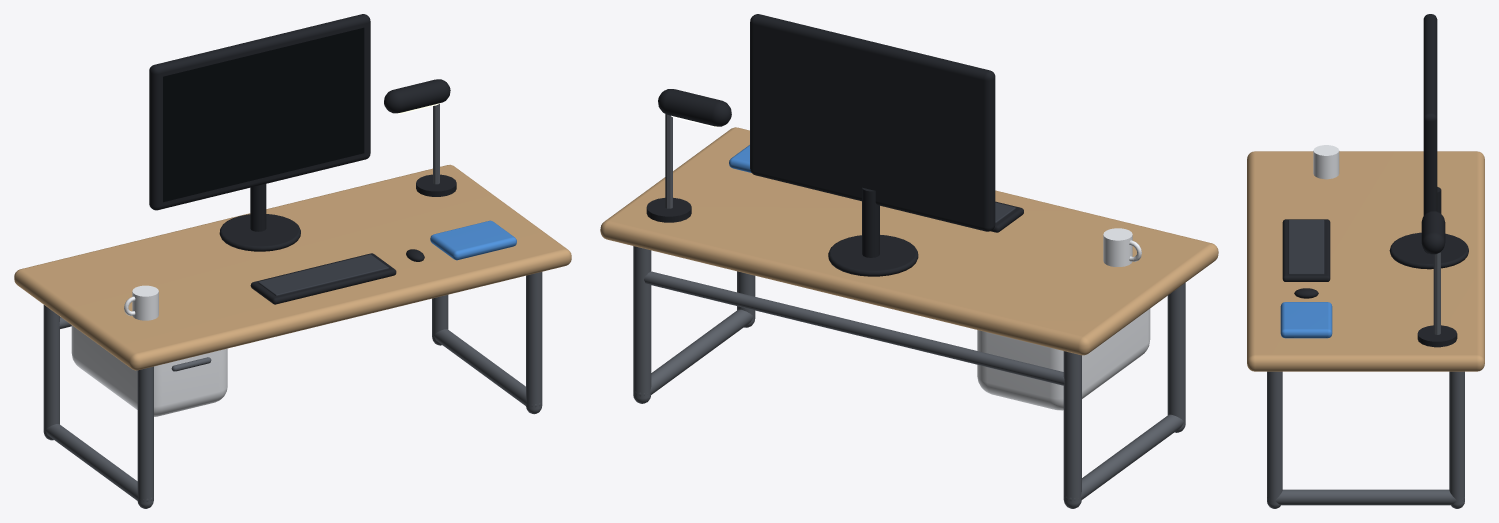
The model's file is desk.glb.
The picture shows the model from 3 angles, left to right: view 1: azimuth 30°, elevation 25°; view 2: azimuth 150°, elevation 25°; view 3: azimuth 270°, elevation 25°; orthographic projection. The views are drawn at different scales.
Visible parts, largest first — view 1: Top, Screen, MonBody, Drawer, Leg.003, Leg.001, MonBase, Keys, Notebook, Leg, Foot, Foot.001 (+6 smaller); view 2: Top, MonBody, Drawer, Beam, Leg, Leg.002, MonBase, Leg.001, Foot.001, Foot, LampHead, MonNeck (+3 smaller); view 3: Top, Foot.001, MonBody, Leg.002, Leg.003, Keys, Notebook, MonBase, Keyboard, LampHead, Mug, LampBase (+1 smaller).
Part boxes in pixels (x1,y1,x2,y2): Top: (14, 164, 571, 370); Screen: (163, 27, 364, 202); MonBody: (149, 14, 370, 210); Drawer: (71, 325, 227, 416); Leg.003: (526, 272, 542, 414); Leg.001: (137, 366, 153, 508); MonBase: (219, 214, 300, 251); Keys: (258, 254, 388, 295); Notebook: (430, 220, 516, 260); Leg: (43, 305, 59, 440); Foot: (44, 424, 153, 501); Foot.001: (432, 329, 541, 407); Top: (600, 127, 1218, 355); MonBody: (750, 14, 995, 231); Drawer: (977, 308, 1150, 410); Beam: (644, 271, 1064, 385); Leg: (1063, 351, 1081, 508); Leg.002: (633, 246, 651, 403); MonBase: (828, 235, 918, 276); Leg.001: (1167, 283, 1185, 432); Foot.001: (633, 309, 754, 396); Foot: (1064, 414, 1185, 501); LampHead: (658, 89, 731, 126); MonNeck: (862, 187, 879, 257); Top: (1247, 151, 1484, 371); Foot.001: (1267, 489, 1464, 505); MonBody: (1423, 14, 1437, 253); Leg.002: (1449, 371, 1464, 508); Leg.003: (1267, 371, 1282, 508); Keys: (1288, 220, 1324, 274); Notebook: (1280, 302, 1332, 338); MonBase: (1389, 232, 1468, 269); Keyboard: (1282, 219, 1330, 281); LampHead: (1421, 211, 1445, 254); Mug: (1313, 145, 1339, 179); LampBase: (1417, 325, 1457, 347).
Size of the model in its own units: 2.5 by 1.96 by 1.2.
